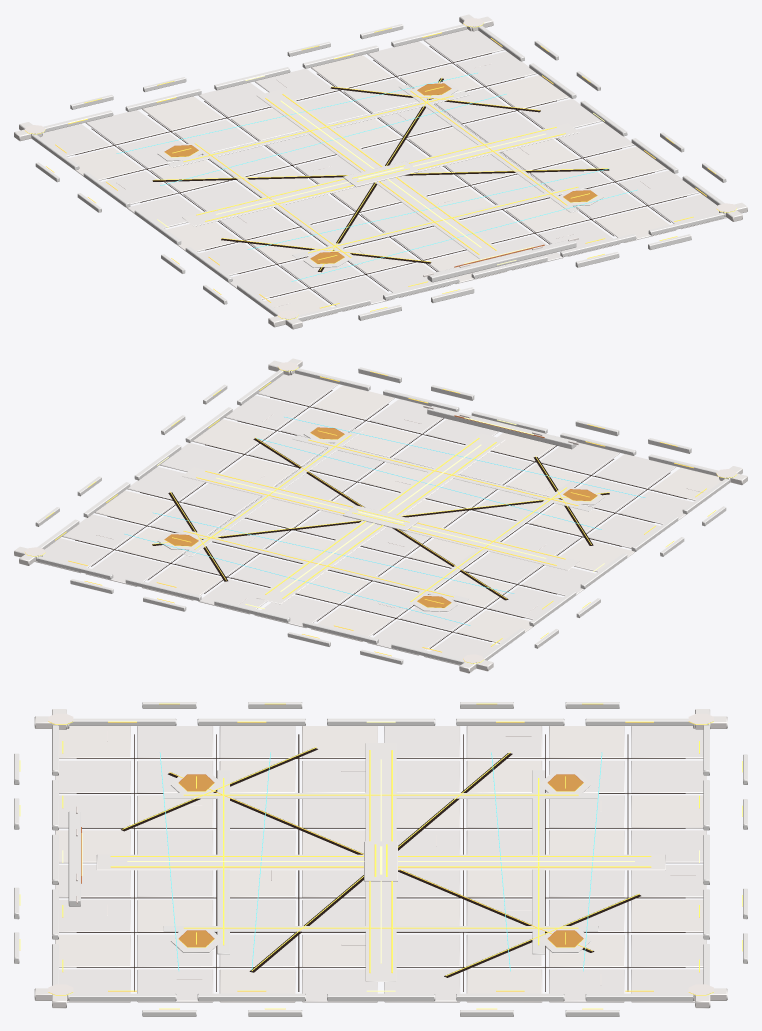
The model's file is sector_3_ember_circuit_arena.glb.
The picture shows the model from 3 angles, top to bottom: view 1: azimuth 30°, elevation 25°; view 2: azimuth 150°, elevation 25°; view 3: azimuth 270°, elevation 25°; orthographic projection. The views are drawn at different scales.
Visible parts, largest first — view 1: Sector3EmberCircuitCentralFoundrySpineDarkHousing, Sector3EmberCircuitCrossHeatBusDarkHousing, Sector3EmberCircuitFoundryFloorPanel_R7_C6, Sector3EmberCircuitFoundryFloorPanel_R7_C1, Sector3EmberCircuitFoundryFloorPanel_R7_C2, Sector3EmberCircuitFoundryFloorPanel_R1_C7, Sector3EmberCircuitFoundryFloorPanel_R6_C7, Sector3EmberCircuitFoundryFloorPanel_R7_C5, Sector3EmberCircuitFoundryFloorPanel_R2_C7, Sector3EmberCircuitFoundryFloorPanel_R5_C7, Sector3EmberCircuitFoundryFloorPanel_R7_C7, Sector3EmberCircuitHorizontalBypassDarkHousing_1 (+62 smaller); view 2: Sector3EmberCircuitCentralFoundrySpineDarkHousing, Sector3EmberCircuitCrossHeatBusDarkHousing, Sector3EmberCircuitFoundryFloorPanel_R0_C6, Sector3EmberCircuitFoundryFloorPanel_R0_C1, Sector3EmberCircuitFoundryFloorPanel_R1_C7, Sector3EmberCircuitFoundryFloorPanel_R6_C7, Sector3EmberCircuitFoundryFloorPanel_R5_C7, Sector3EmberCircuitFoundryFloorPanel_R2_C7, Sector3EmberCircuitFoundryFloorPanel_R0_C7, Sector3EmberCircuitHorizontalBypassDarkHousing_0, Sector3EmberCircuitFoundryFloorPanel_R0_C2, Sector3EmberCircuitHorizontalBypassDarkHousing_1 (+62 smaller); view 3: Sector3EmberCircuitCentralFoundrySpineDarkHousing, Sector3EmberCircuitCrossHeatBusDarkHousing, Sector3EmberCircuitFoundryFloorPanel_R1_C0, Sector3EmberCircuitFoundryFloorPanel_R2_C0, Sector3EmberCircuitFoundryFloorPanel_R5_C0, Sector3EmberCircuitFoundryFloorPanel_R6_C0, Sector3EmberCircuitFoundryFloorPanel_R7_C1, Sector3EmberCircuitFoundryFloorPanel_R0_C1, Sector3EmberCircuitFoundryFloorPanel_R7_C5, Sector3EmberCircuitFoundryFloorPanel_R7_C6, Sector3EmberCircuitFoundryFloorPanel_R7_C2, Sector3EmberCircuitFoundryFloorPanel_R0_C6 (+85 smaller).
Part boxes in pixels (x1,y1,x2,y2): Sector3EmberCircuitCentralFoundrySpineDarkHousing: [256, 89, 504, 259]; Sector3EmberCircuitCrossHeatBusDarkHousing: [182, 123, 579, 226]; Sector3EmberCircuitFoundryFloorPanel_R7_C6: [367, 41, 448, 75]; Sector3EmberCircuitFoundryFloorPanel_R7_C1: [86, 110, 166, 144]; Sector3EmberCircuitFoundryFloorPanel_R7_C2: [142, 96, 223, 130]; Sector3EmberCircuitFoundryFloorPanel_R1_C7: [618, 170, 699, 205]; Sector3EmberCircuitFoundryFloorPanel_R6_C7: [456, 51, 536, 85]; Sector3EmberCircuitFoundryFloorPanel_R7_C5: [311, 55, 391, 88]; Sector3EmberCircuitFoundryFloorPanel_R2_C7: [586, 146, 666, 181]; Sector3EmberCircuitFoundryFloorPanel_R5_C7: [489, 75, 569, 108]; Sector3EmberCircuitFoundryFloorPanel_R7_C7: [423, 29, 504, 62]; Sector3EmberCircuitHorizontalBypassDarkHousing_1: [168, 91, 469, 167]; Sector3EmberCircuitCentralFoundrySpineDarkHousing: [256, 433, 505, 604]; Sector3EmberCircuitCrossHeatBusDarkHousing: [182, 467, 579, 570]; Sector3EmberCircuitFoundryFloorPanel_R0_C6: [313, 385, 394, 419]; Sector3EmberCircuitFoundryFloorPanel_R0_C1: [595, 454, 675, 488]; Sector3EmberCircuitFoundryFloorPanel_R1_C7: [225, 395, 305, 429]; Sector3EmberCircuitFoundryFloorPanel_R6_C7: [62, 514, 143, 549]; Sector3EmberCircuitFoundryFloorPanel_R5_C7: [95, 490, 174, 525]; Sector3EmberCircuitFoundryFloorPanel_R2_C7: [192, 419, 272, 453]; Sector3EmberCircuitFoundryFloorPanel_R0_C7: [257, 373, 338, 406]; Sector3EmberCircuitHorizontalBypassDarkHousing_0: [292, 435, 593, 511]; Sector3EmberCircuitFoundryFloorPanel_R0_C2: [540, 442, 619, 474]; Sector3EmberCircuitHorizontalBypassDarkHousing_1: [167, 526, 469, 602]; Sector3EmberCircuitCentralFoundrySpineDarkHousing: [96, 854, 665, 870]; Sector3EmberCircuitCrossHeatBusDarkHousing: [365, 743, 396, 981]; Sector3EmberCircuitFoundryFloorPanel_R1_C0: [137, 726, 213, 758]; Sector3EmberCircuitFoundryFloorPanel_R2_C0: [219, 726, 295, 758]; Sector3EmberCircuitFoundryFloorPanel_R5_C0: [466, 726, 542, 758]; Sector3EmberCircuitFoundryFloorPanel_R6_C0: [549, 726, 624, 758]; Sector3EmberCircuitFoundryFloorPanel_R7_C1: [631, 760, 706, 793]; Sector3EmberCircuitFoundryFloorPanel_R0_C1: [55, 760, 130, 793]; Sector3EmberCircuitFoundryFloorPanel_R7_C5: [631, 899, 703, 932]; Sector3EmberCircuitFoundryFloorPanel_R7_C6: [631, 934, 706, 967]; Sector3EmberCircuitFoundryFloorPanel_R7_C2: [631, 795, 703, 828]; Sector3EmberCircuitFoundryFloorPanel_R0_C6: [55, 934, 130, 967].
Size of the model in its own units: 62.42 by 1.02 by 62.44.
